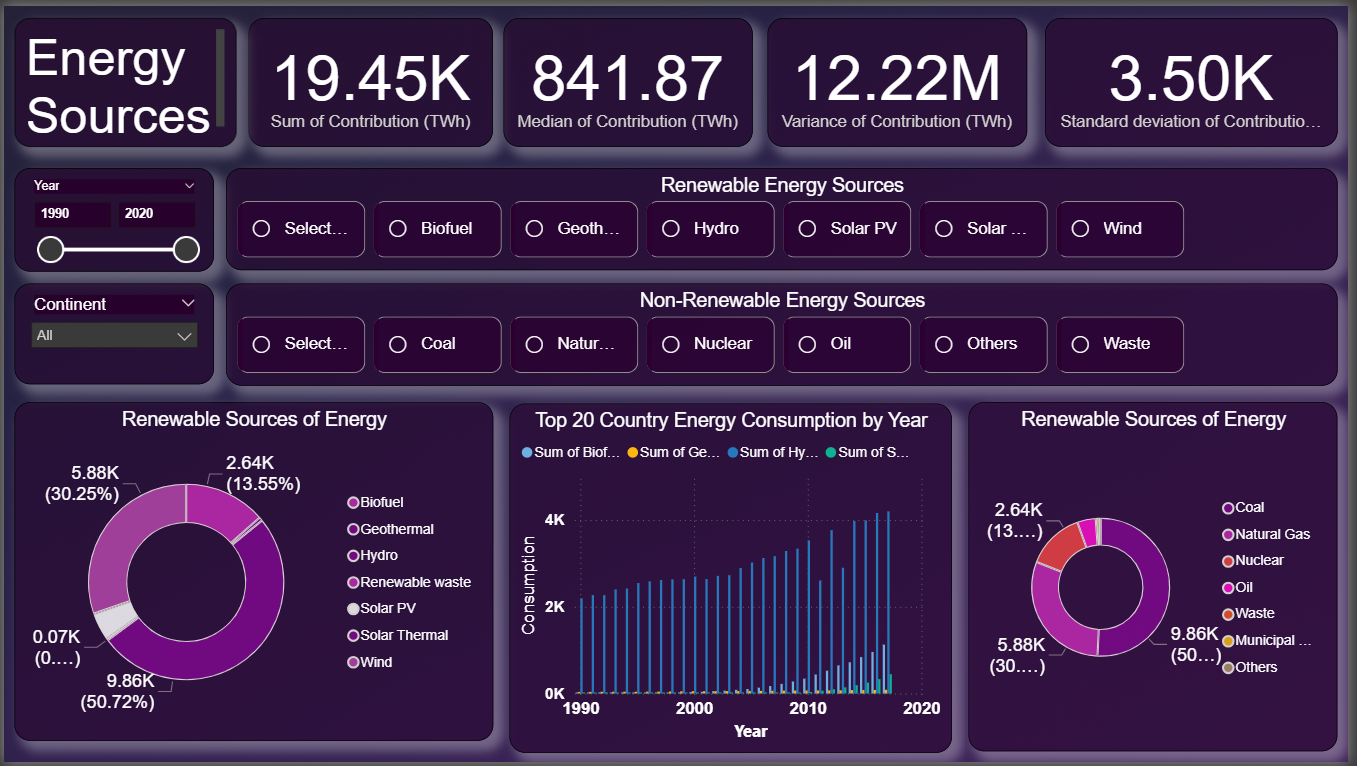

The page's visual inventory and layout, read from the dashboard file:
{"tool":"powerbi","page":{"name":"Energy Sources","canvas":[1280,720],"ordinal":3},"visuals":[{"type":"card","fields":{"Values":["Sum(renewablesTotalPowerGeneration.Contribution (TWh))"]},"box":[232.9,11.4,232.9,122.9],"z":0},{"type":"textbox","box":[10,11.4,211.4,122.9],"z":1000},{"type":"donutChart","title":"Renewable Sources of Energy ","fields":{"Y":["Sum(renewablesTotalPowerGeneration.Contribution (TWh))"],"Series":["renewablesTotalPowerGeneration.Mode of Generation"]},"box":[10,377.1,455.7,322.9],"z":2000},{"type":"clusteredColumnChart","title":"Top 20 Country Energy Consumption by Year","fields":{"Y":["Sum(renewablePowerGeneration97-17.Biofuel(TWh))","Sum(renewablePowerGeneration97-17.Geothermal (TWh))","Sum(renewablePowerGeneration97-17.Hydro(TWh))","Sum(renewablePowerGeneration97-17.Solar PV (TWh))"],"Category":["renewablePowerGeneration97-17.Year"]},"box":[481.4,378.6,421.4,332.9],"z":3000},{"type":"slicer","fields":{"Values":["Continent_Table.Year"]},"box":[10,154.3,190,98.6],"z":4000},{"type":"slicer","fields":{"Values":["Continent_Table.Continent"]},"box":[10,264.3,190,95.7],"z":5000},{"type":"card","fields":{"Values":["Median(renewablesTotalPowerGeneration.Contribution (TWh))"]},"box":[466.2,11,237.8,122.9],"z":6000},{"type":"card","fields":{"Values":["Sum(renewablesTotalPowerGeneration.Contribution (TWh))"]},"box":[727.1,11.4,247.1,122.9],"z":7000},{"type":"card","fields":{"Values":["Sum(renewablesTotalPowerGeneration.Contribution (TWh))"]},"box":[991.4,11.4,278.6,122.9],"z":8000},{"type":"advancedSlicerVisual","title":"Renewable Energy Sources","fields":{"Values":["renewablesTotalPowerGeneration.Mode of Generation"]},"box":[211.4,154.3,1058.6,97.1],"z":9000},{"type":"advancedSlicerVisual","title":"Non-Renewable Energy Sources","fields":{"Values":["nonRenewablesTotalPowerGeneration.Mode of Generation"]},"box":[211.4,264.3,1058.6,97.1],"z":10000},{"type":"donutChart","title":"Renewable Sources of Energy ","fields":{"Category":["nonRenewablesTotalPowerGeneration.Mode of Generation"],"Y":["Sum(nonRenewablesTotalPowerGeneration.Contribution (TWh))"]},"box":[918.6,377.1,351.4,332.9],"z":11000}]}

Visuals, with their boxes in screenshot pixels (x1, y1, x2, y2), scaled from the page's 1280x720 canvas onto the 1357x766 screenshot:
card - Sum(renewablesTotalPowerGeneration.Contribution (TWh)): <box>247,12,494,143</box>
textbox: <box>11,12,235,143</box>
"Renewable Sources of Energy " donutChart: <box>11,401,494,745</box>
"Top 20 Country Energy Consumption by Year" clusteredColumnChart: <box>510,403,957,757</box>
slicer - Continent_Table.Year: <box>11,164,212,269</box>
slicer - Continent_Table.Continent: <box>11,281,212,383</box>
card - Median(renewablesTotalPowerGeneration.Contribution (TWh)): <box>494,12,746,142</box>
card - Sum(renewablesTotalPowerGeneration.Contribution (TWh)): <box>771,12,1033,143</box>
card - Sum(renewablesTotalPowerGeneration.Contribution (TWh)): <box>1051,12,1346,143</box>
"Renewable Energy Sources" advancedSlicerVisual: <box>224,164,1346,267</box>
"Non-Renewable Energy Sources" advancedSlicerVisual: <box>224,281,1346,384</box>
"Renewable Sources of Energy " donutChart: <box>974,401,1346,755</box>
